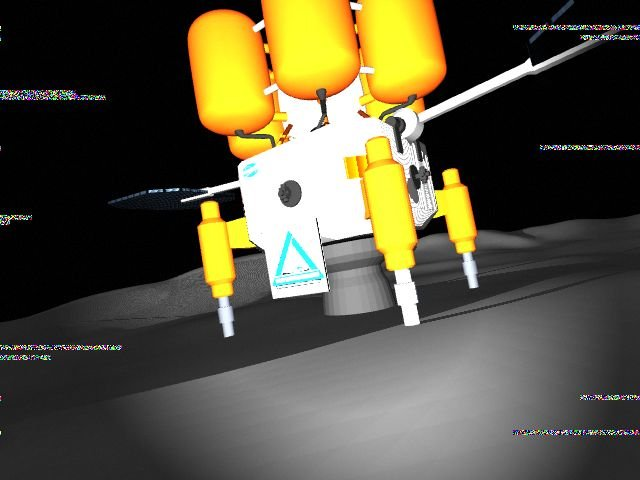basemarker: (271, 230, 325, 289)
